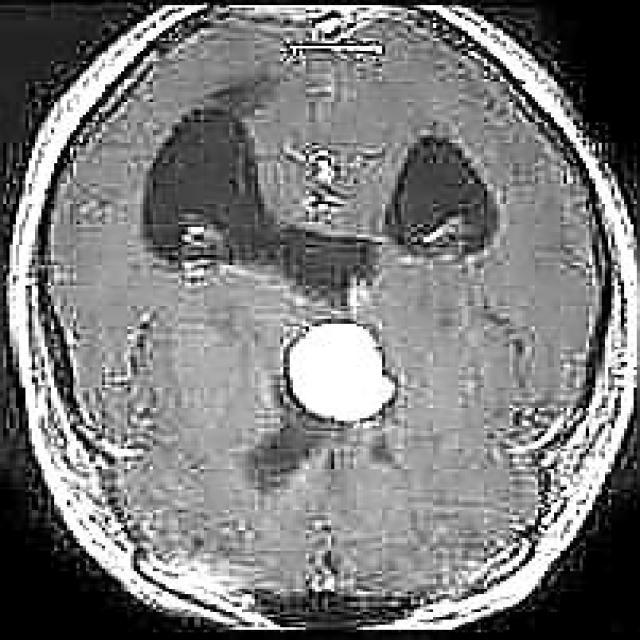Tumor: (277, 313, 403, 431)
